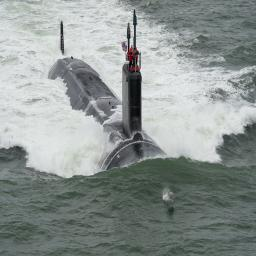submarine: (44, 12, 176, 175)
